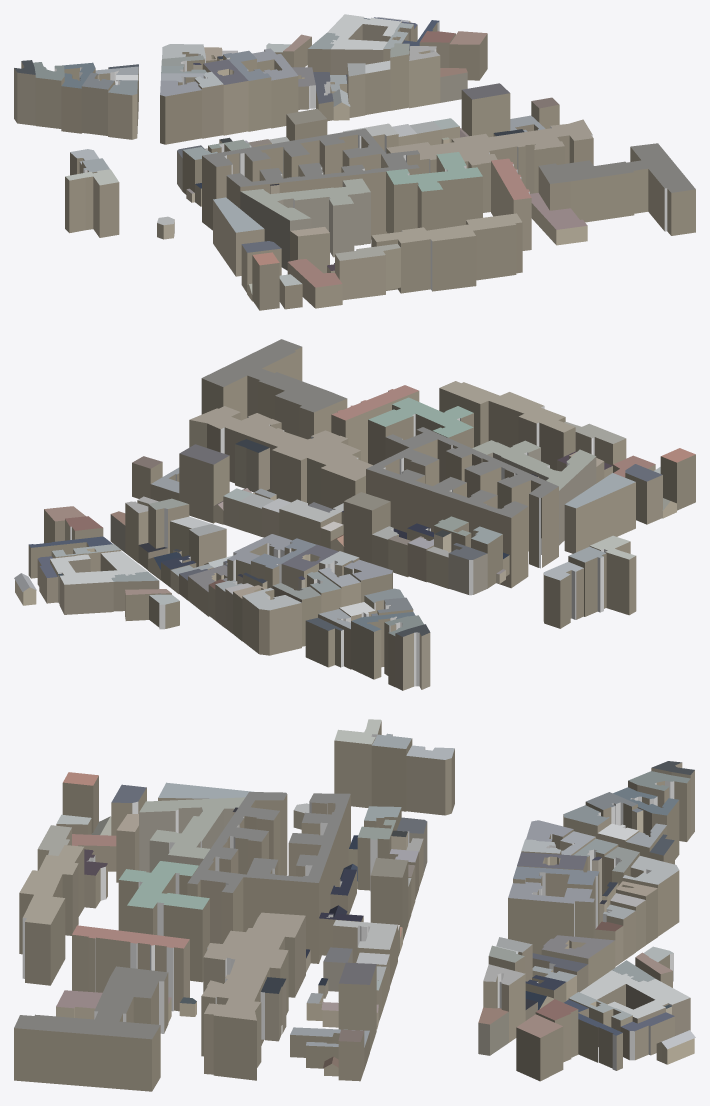
3 renders of one model, top to bottom at view 1: azimuth 30°, elevation 25°; view 2: azimuth 150°, elevation 25°; view 3: azimuth 270°, elevation 25°, orthographic. The views are drawn at different scales.
Parts seen in each view (by area): view 1: tuile; view 2: tuile; view 3: tuile.
Part boxes in pixels (x1=…): tuile: x1=14, y1=14, x2=695, y2=310; tuile: x1=14, y1=339, x2=695, y2=690; tuile: x1=14, y1=719, x2=695, y2=1091.
Bounding box in the file's own units: 279 × 36.94 × 271.
